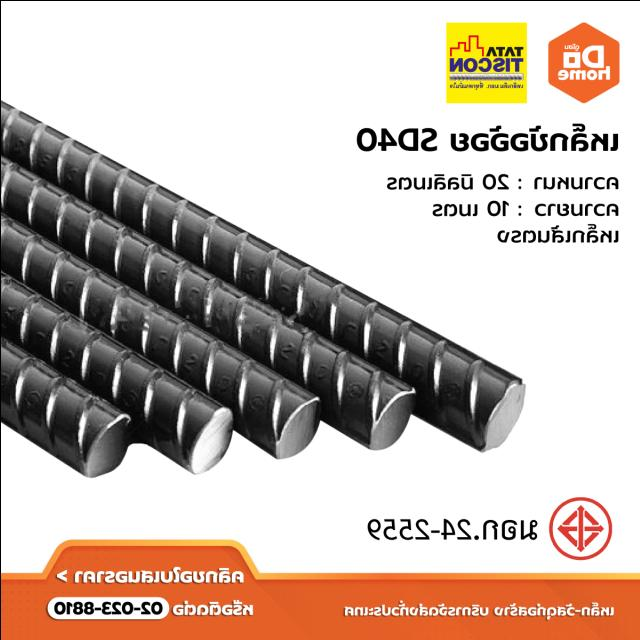Rebar: (273, 395, 330, 463), (182, 411, 238, 477), (477, 382, 527, 454), (81, 416, 134, 481), (365, 395, 419, 451)
